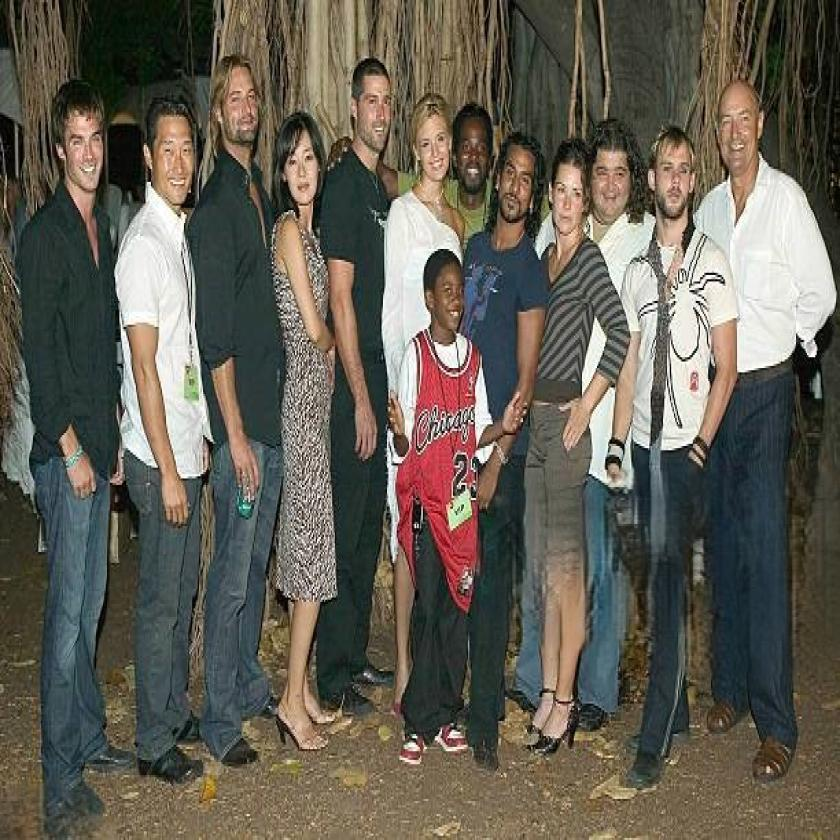Sin_casco: (140, 90, 202, 220), (48, 76, 111, 200), (274, 110, 332, 227), (587, 123, 643, 236), (212, 49, 266, 157), (714, 76, 766, 182), (496, 127, 547, 234), (351, 49, 394, 164), (653, 130, 698, 236), (409, 88, 452, 190), (426, 245, 470, 344), (455, 97, 494, 204), (552, 141, 594, 240)
